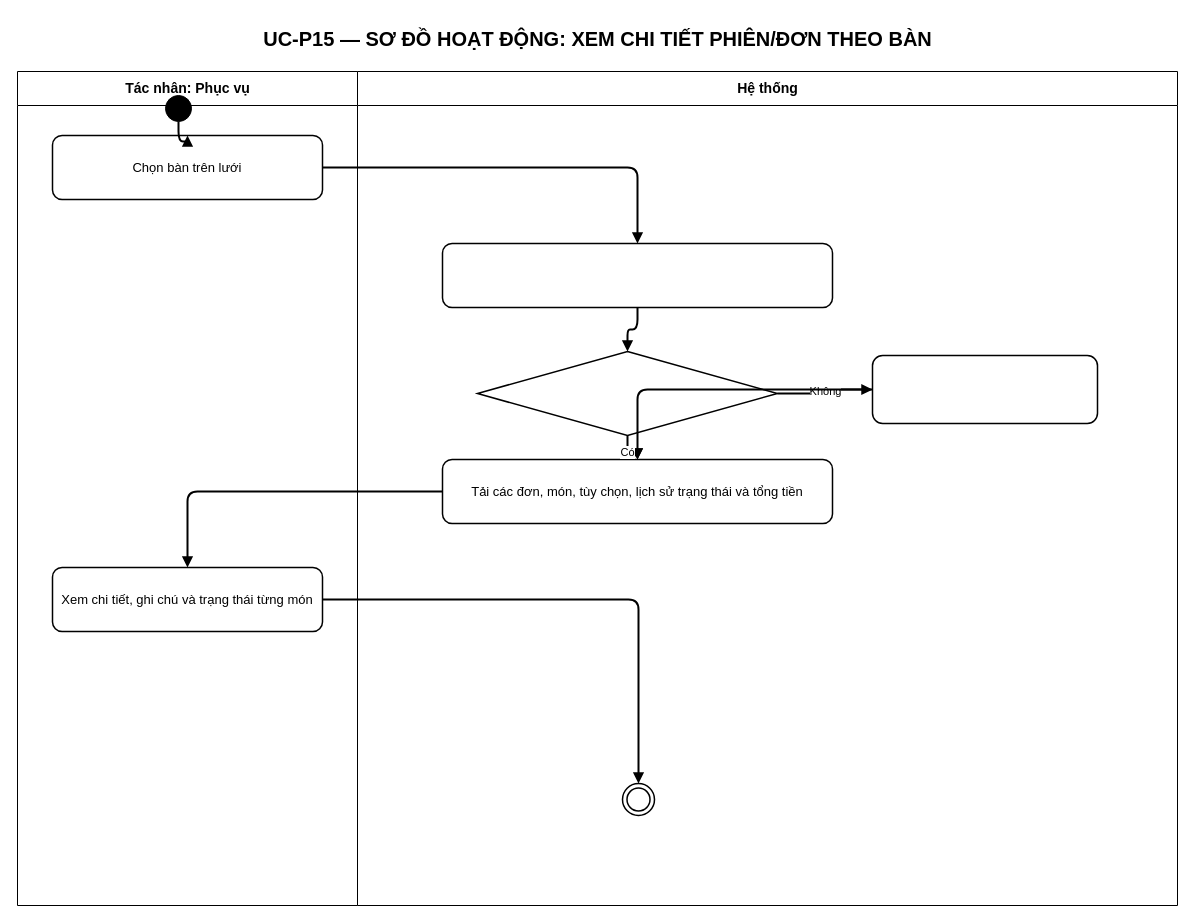
The diagram is 1195 pixels wide and 923 high, and some of its shapes have lost their labels. The shapes that lost their labels are listed below. From the top down, each one's centre as x and y in pixels, then its label:
point 637,275: Kiểm tra quyền và tải phiên hiện tại
point 627,393: Bàn có phiên?
point 984,389: Hiển thị thông tin bàn trống
